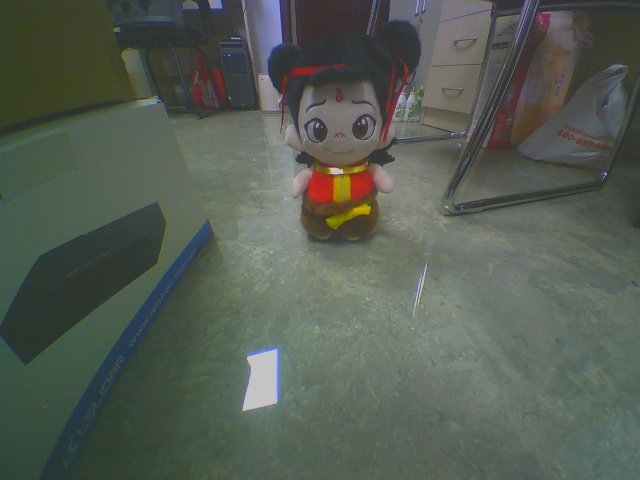Nezha2: (264, 19, 423, 244)
